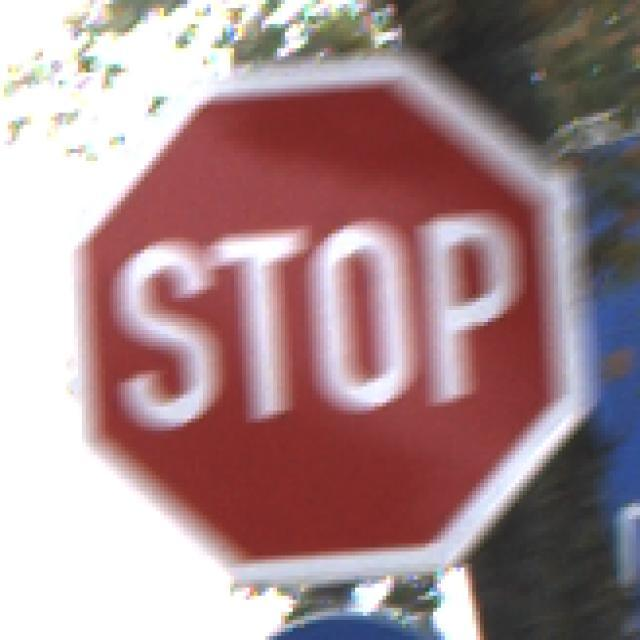stop: (61, 63, 581, 588)
